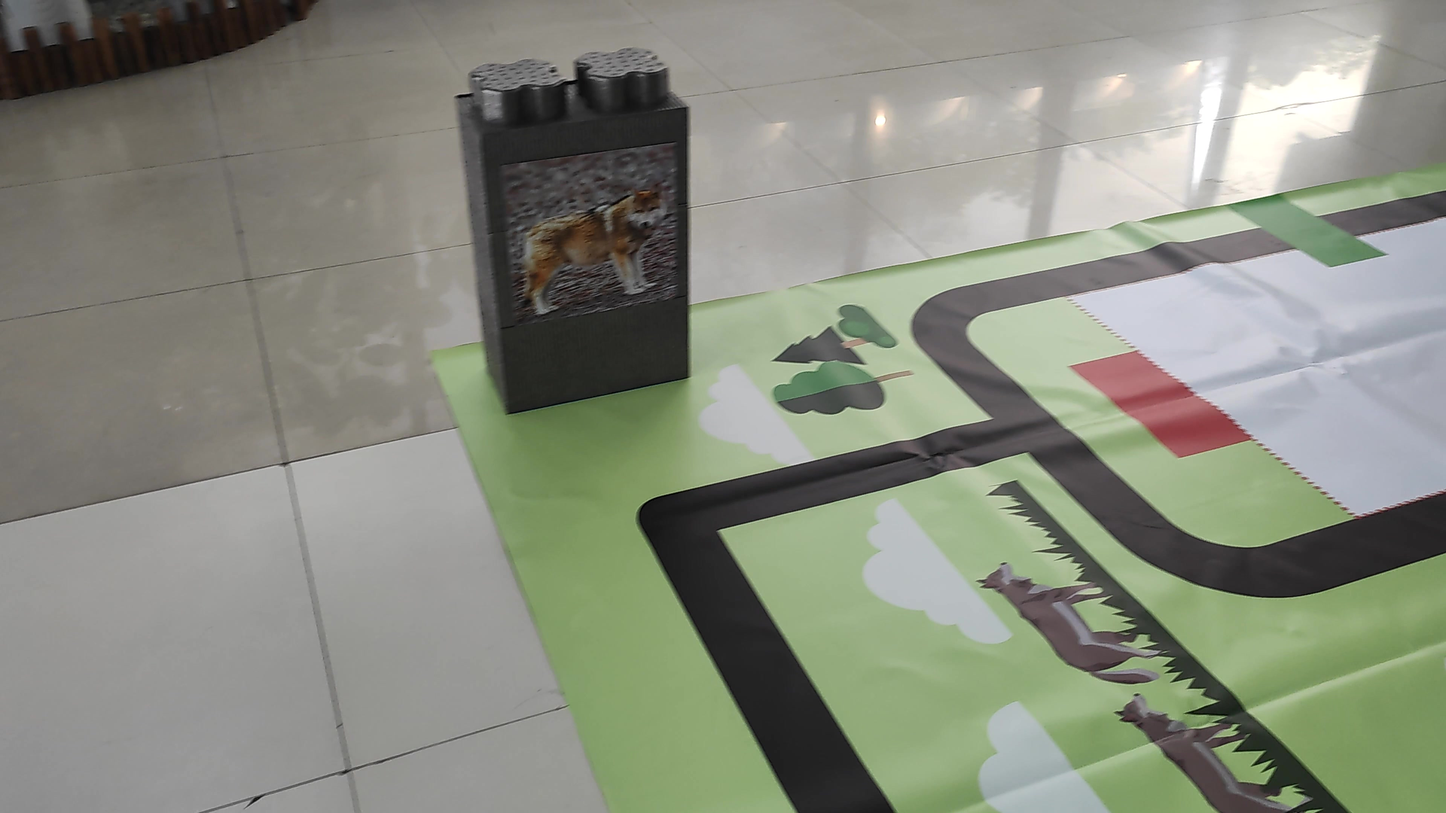wolf: (503, 148, 673, 305)
